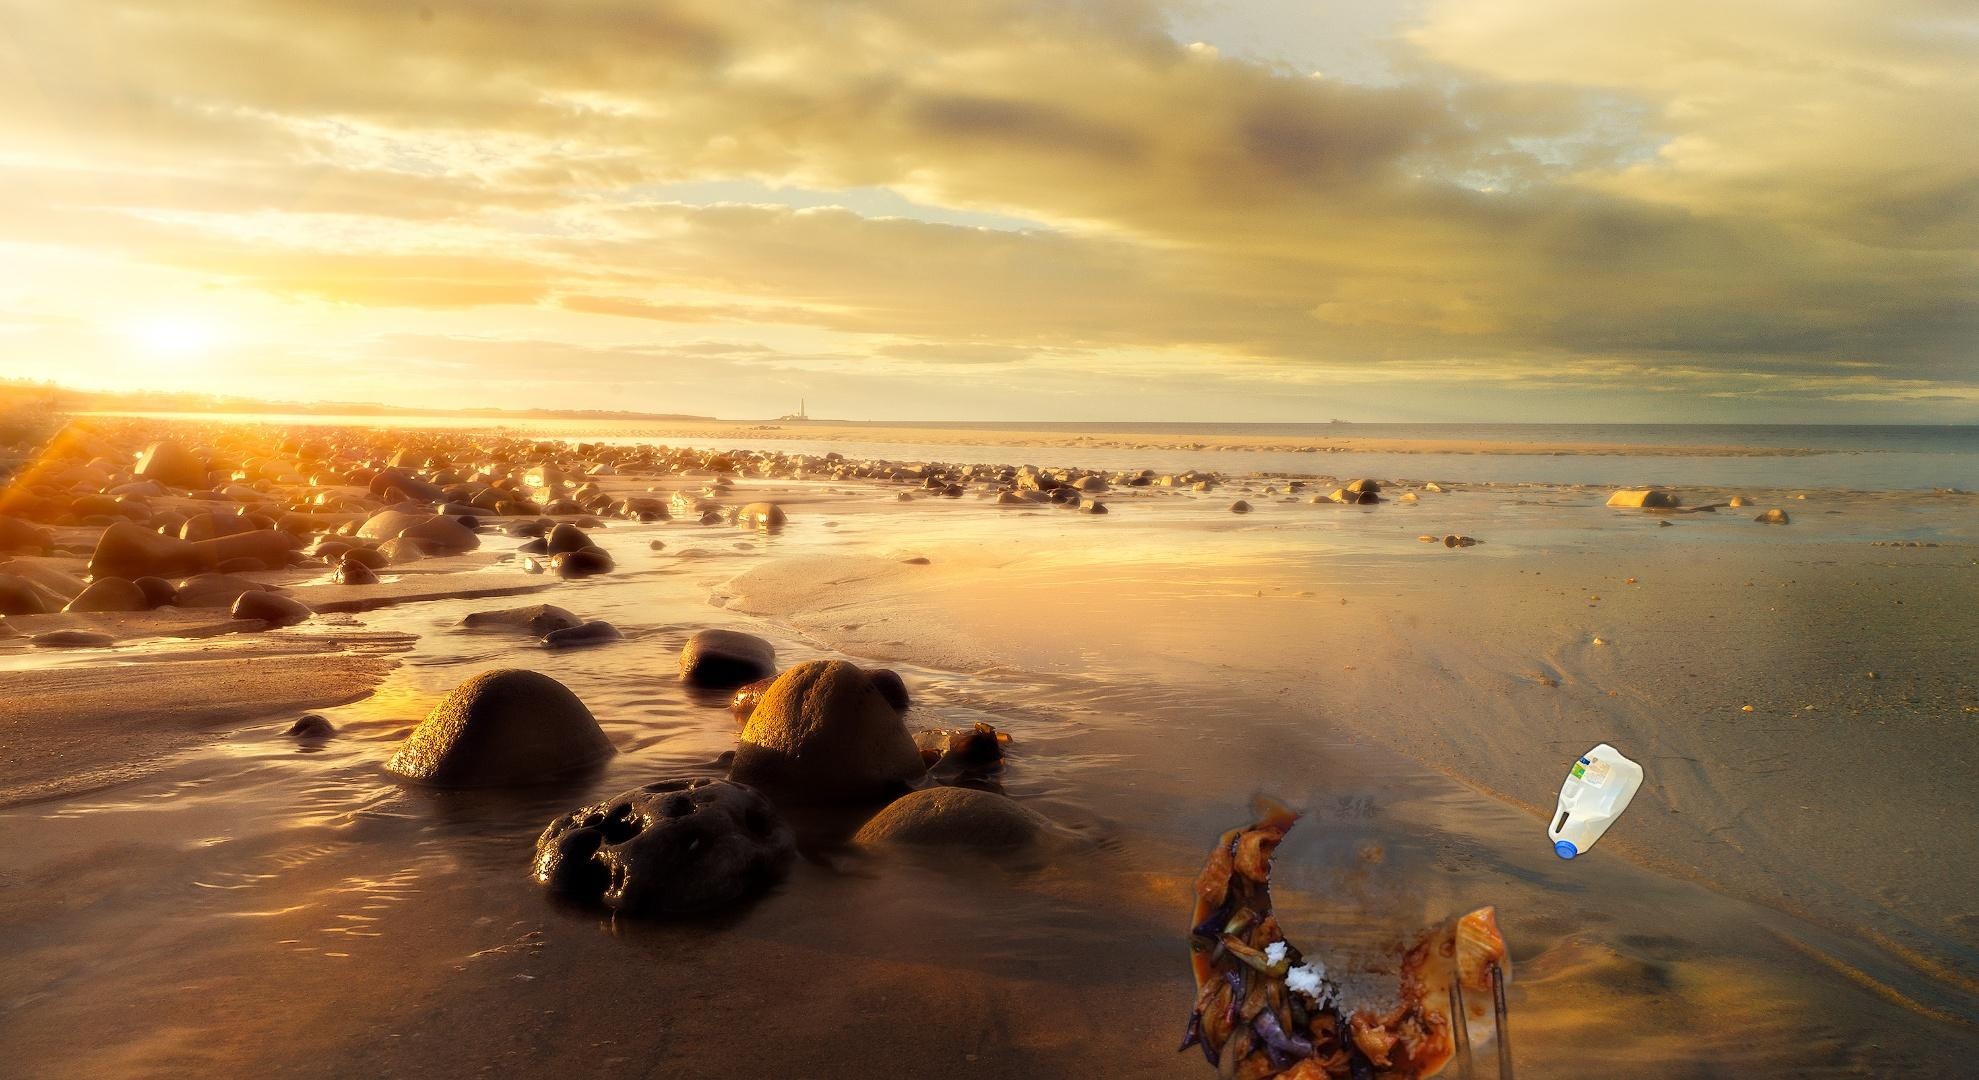biological: (1166, 775, 1591, 1080)
plastic-bottles: (1420, 628, 1831, 1008)
